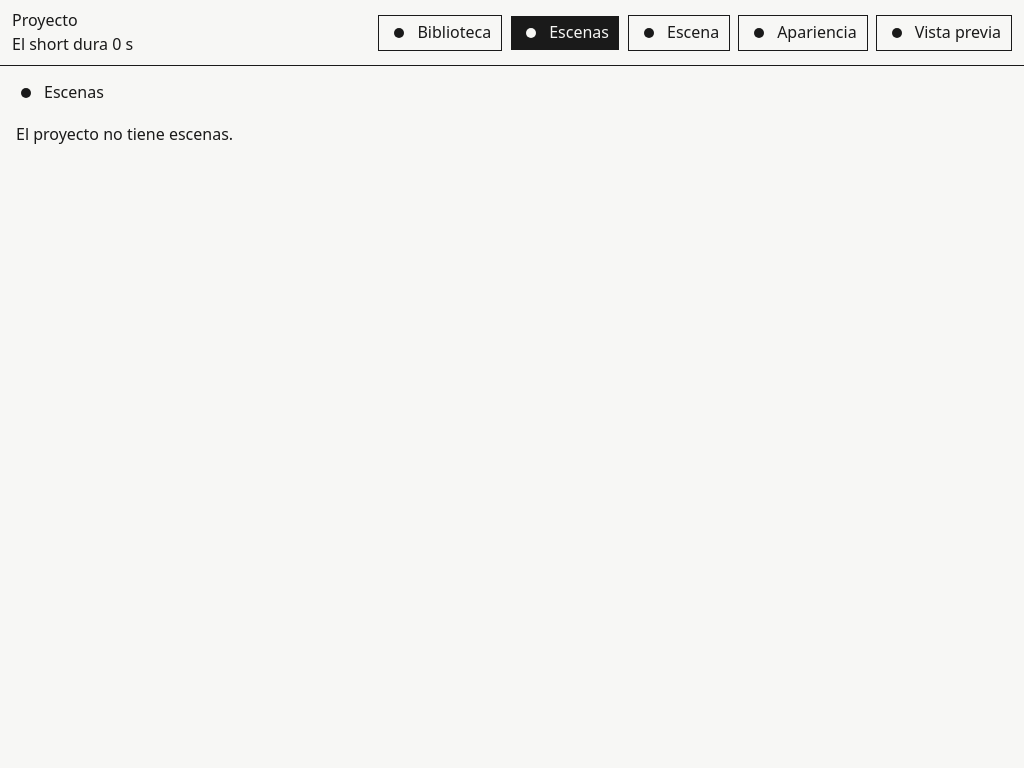
Test: la barra sigue visible y en la pantalla hay un solo modo
This screenshot has width=1024, height=768.
expect the button "Escenas" is shown: met, box x1=510 y1=15 x2=620 y2=51
expect the button "Escena" is shown: met, box x1=628 y1=15 x2=730 y2=51
Click the button "Biblioteca": (440, 33) x1=378 y1=15 x2=502 y2=51
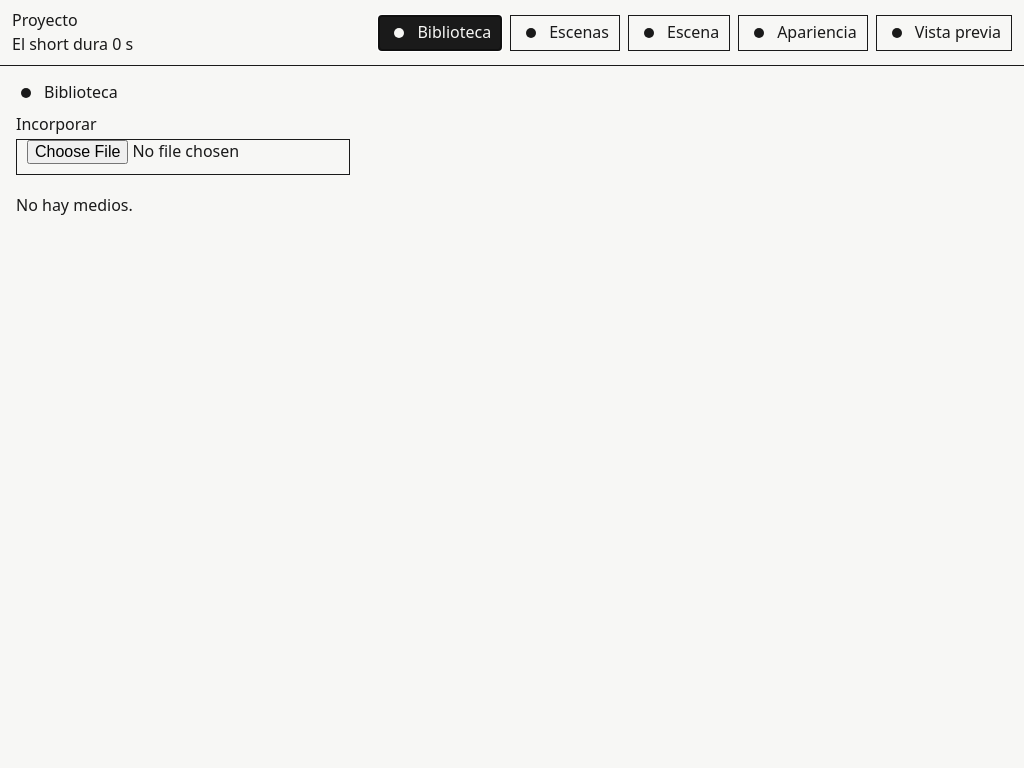
expect the heading "Proyecto" is shown: met, box x1=12 y1=9 x2=78 y2=31
expect the text "No hay medios." is shown: met, box x1=16 y1=194 x2=133 y2=216
Click the button "Escenas": (565, 33) x1=510 y1=15 x2=620 y2=51
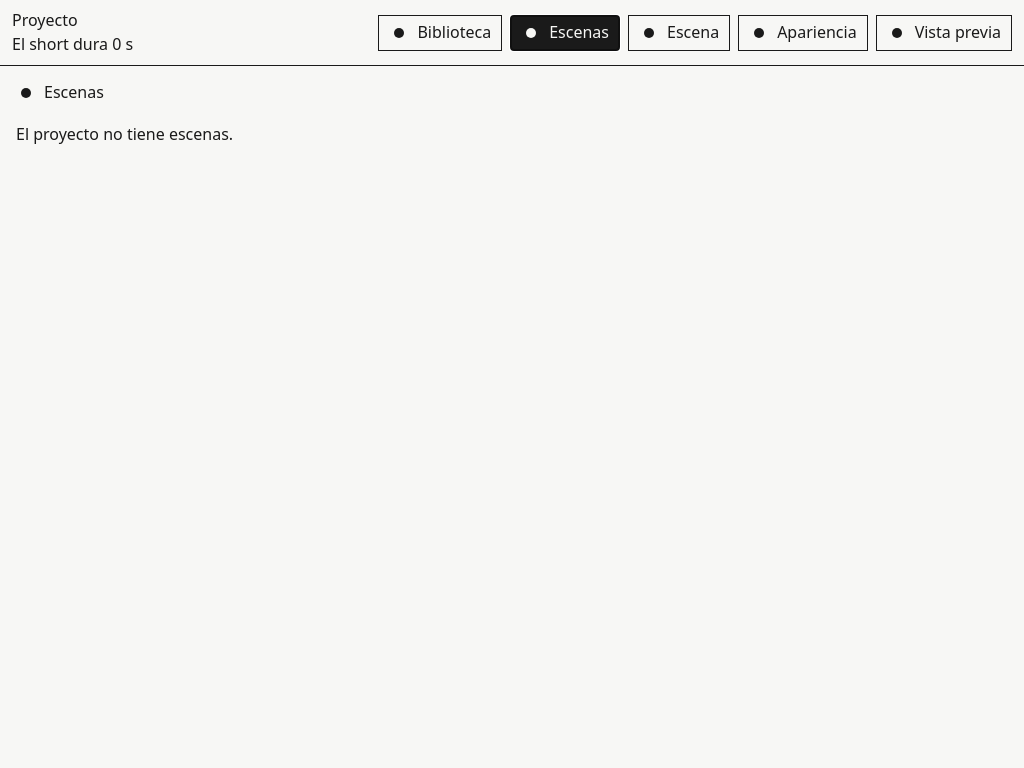
expect the heading "Proyecto" is shown: met, box x1=12 y1=9 x2=78 y2=31
expect the text "El proyecto no tiene escenas." is shown: met, box x1=16 y1=123 x2=233 y2=145
Click the button "Escena": (679, 33) x1=628 y1=15 x2=730 y2=51
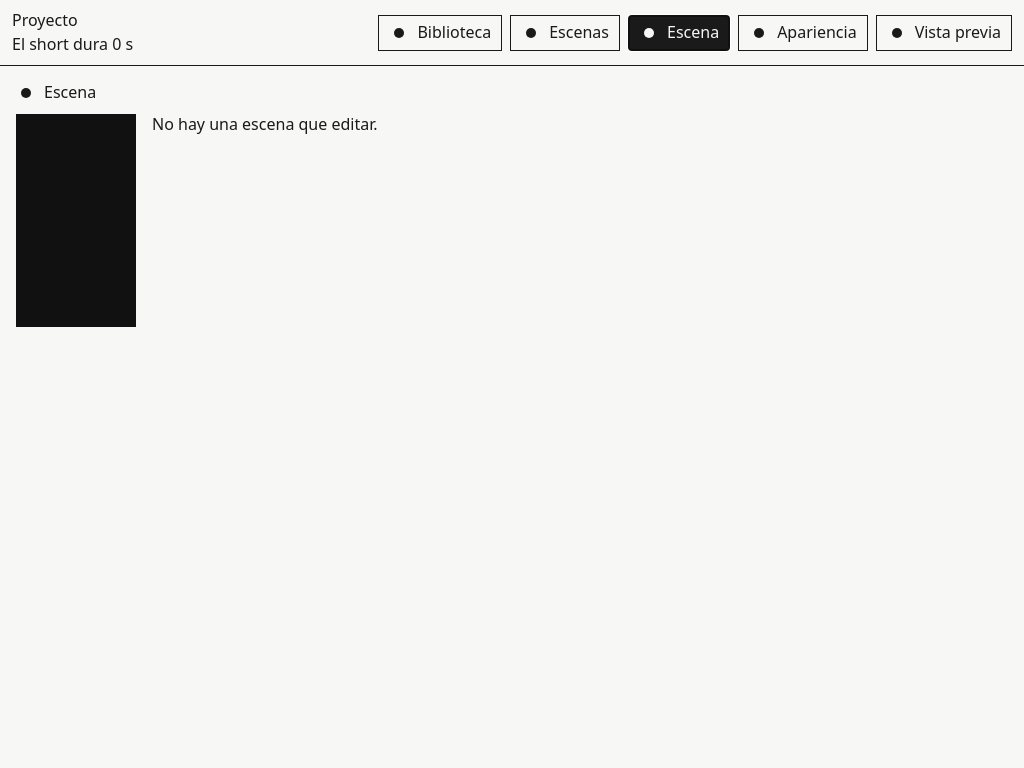
expect the heading "Proyecto" is shown: met, box x1=12 y1=9 x2=78 y2=31
expect the text "No hay una escena que editar." is shown: met, box x1=152 y1=114 x2=378 y2=135
Click the button "Apariencia": (803, 33) x1=738 y1=15 x2=868 y2=51
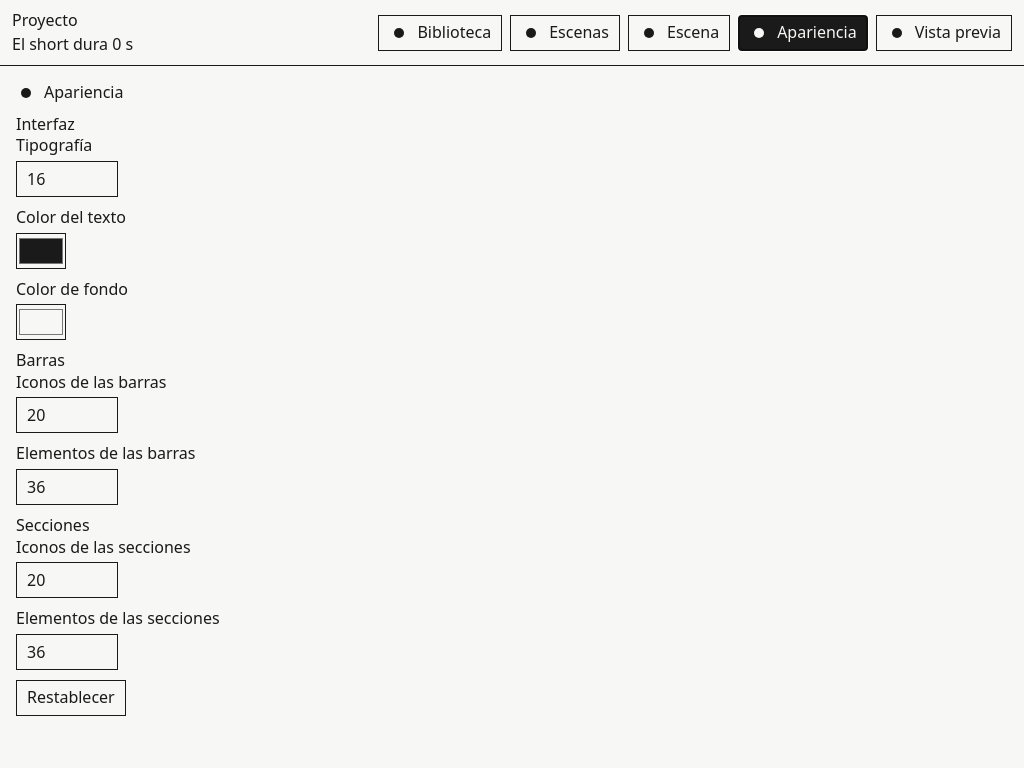
expect the heading "Proyecto" is shown: met, box x1=12 y1=9 x2=78 y2=31
expect the element "Apariencia" is shown: met
Click the button "Vista previa": (944, 33) x1=876 y1=15 x2=1012 y2=51
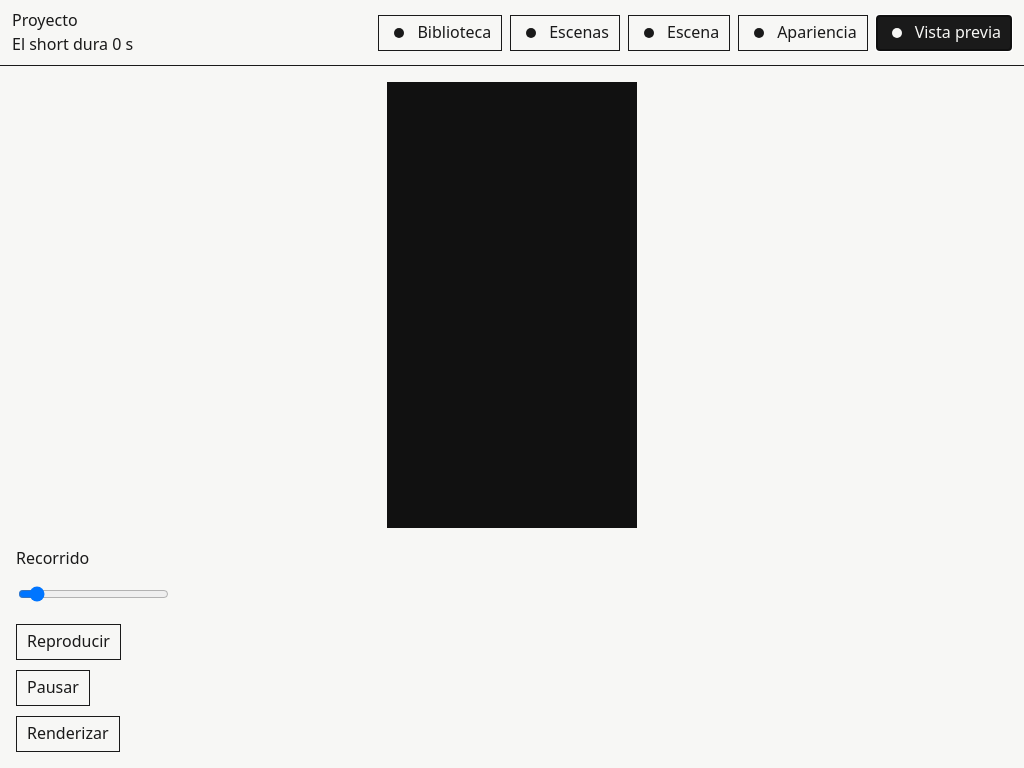
expect the heading "Proyecto" is shown: met, box x1=12 y1=9 x2=78 y2=31
expect the element named "Vista previa" is shown: met
